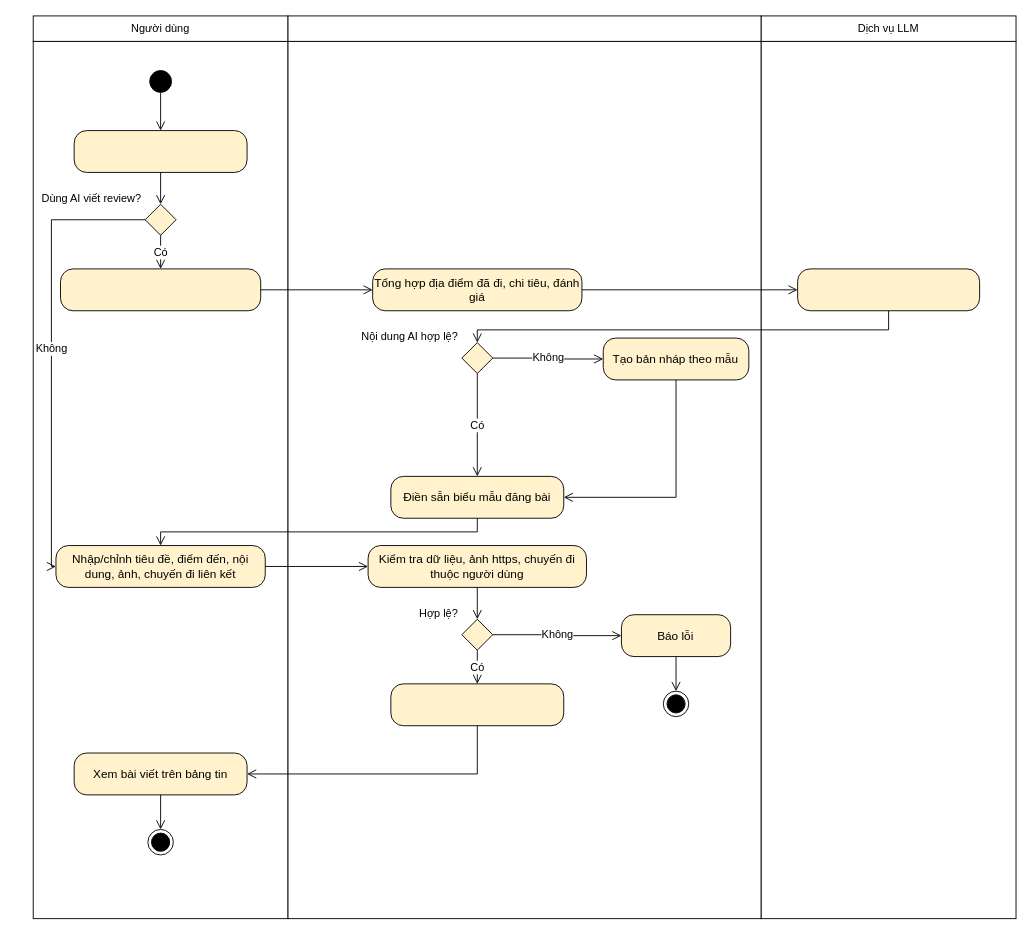
The diagram is 1032 pixels wide and 935 high, and some of its shapes have lost their labels. Here are the shapes that lost their labels. From the top down, the centre of each, then its label:
At point 524,28: "Hệ thống".
At point 160,151: "Chọn viết bài chia sẻ".
At point 160,289: "Chọn “AI viết review” trên chuyến đi đã kết thúc".
At point 888,289: "Sinh tiêu đề và nội dung bài viết".
At point 477,704: "Lưu bài viết".
